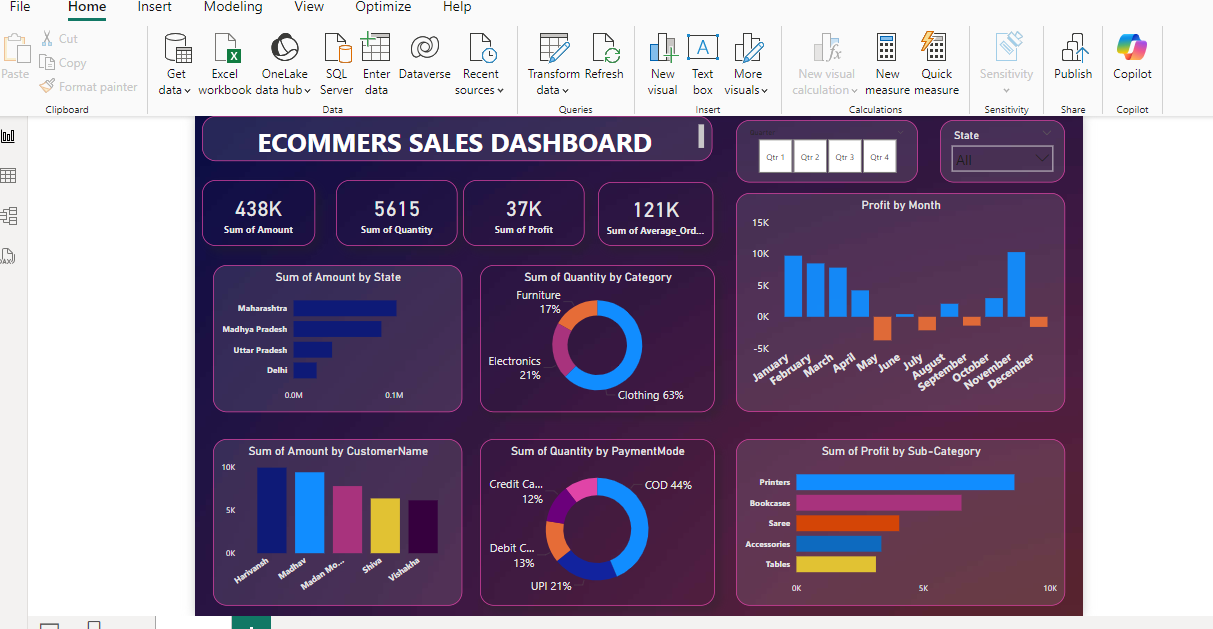

The page's visual inventory and layout, read from the dashboard file:
{"tool":"powerbi","page":{"name":"Page 1","canvas":[1280,720],"ordinal":0},"visuals":[{"type":"columnChart","title":"Profit by Month","fields":{"Y":["Details.Profit"],"Category":["Orders (1).Order Date.Variation.Date Hierarchy.Month"]},"box":[779.7,111.4,473.8,314.7],"z":0},{"type":"barChart","fields":{"Category":["Details.Sub-Category"],"Y":["Details.Profit"]},"box":[779.7,465,473.8,240.4],"z":1000},{"type":"donutChart","fields":{"Category":["Details.Category"],"Y":["Details.Quantity"]},"box":[410.2,213.9,337.7,212.2],"z":2000},{"type":"donutChart","fields":{"Y":["Details.Quantity"],"Category":["Details.PaymentMode"]},"box":[410.2,465,337.7,240.4],"z":3000},{"type":"card","fields":{"Values":["Details.Amount"]},"box":[10.6,91.9,162.7,95.5],"z":4000},{"type":"card","fields":{"Values":["Details.Quantity"]},"box":[203.3,91.9,175,95.5],"z":5000},{"type":"card","fields":{"Values":["Details.Profit"]},"box":[385.4,91.9,175,95.5],"z":6000},{"type":"card","fields":{"Values":["Details.Average_Order_Value"]},"box":[579.9,95.5,166.2,91.9],"z":7000},{"type":"barChart","fields":{"Category":["Orders (1).State"],"Y":["Details.Amount"]},"box":[26.5,213.9,358.9,212.2],"z":8000},{"type":"columnChart","fields":{"Category":["Orders (1).CustomerName"],"Y":["Details.Amount"]},"box":[26.5,465,358.9,240.4],"z":9000},{"type":"textbox","box":[10.6,0,735.5,65.4],"z":10000},{"type":"slicer","fields":{"Values":["Orders (1).Order Date.Variation.Date Hierarchy.Quarter"]},"box":[779.7,5.3,261.7,90.2],"z":11000},{"type":"slicer","fields":{"Values":["Orders (1).State"]},"box":[1073.1,5.3,180.3,90.2],"z":12000}]}

Visuals, with their boxes on the page's 1280x720 design canvas (x1, y1, x2, y2). These are canvas units, not pixel positions in the 1213x629 screenshot, which may show the page scaled, cropped or inside an application window:
"Profit by Month" columnChart: {"left": 780, "top": 111, "right": 1254, "bottom": 426}
barChart - Details.Sub-Category x Details.Profit: {"left": 780, "top": 465, "right": 1254, "bottom": 705}
donutChart - Details.Category x Details.Quantity: {"left": 410, "top": 214, "right": 748, "bottom": 426}
donutChart - Details.Quantity x Details.PaymentMode: {"left": 410, "top": 465, "right": 748, "bottom": 705}
card - Details.Amount: {"left": 11, "top": 92, "right": 173, "bottom": 187}
card - Details.Quantity: {"left": 203, "top": 92, "right": 378, "bottom": 187}
card - Details.Profit: {"left": 385, "top": 92, "right": 560, "bottom": 187}
card - Details.Average_Order_Value: {"left": 580, "top": 96, "right": 746, "bottom": 187}
barChart - Orders (1).State x Details.Amount: {"left": 26, "top": 214, "right": 385, "bottom": 426}
columnChart - Orders (1).CustomerName x Details.Amount: {"left": 26, "top": 465, "right": 385, "bottom": 705}
textbox: {"left": 11, "top": 0, "right": 746, "bottom": 65}
slicer - Orders (1).Order Date.Variation.Date Hierarchy.Quarter: {"left": 780, "top": 5, "right": 1041, "bottom": 96}
slicer - Orders (1).State: {"left": 1073, "top": 5, "right": 1253, "bottom": 96}
